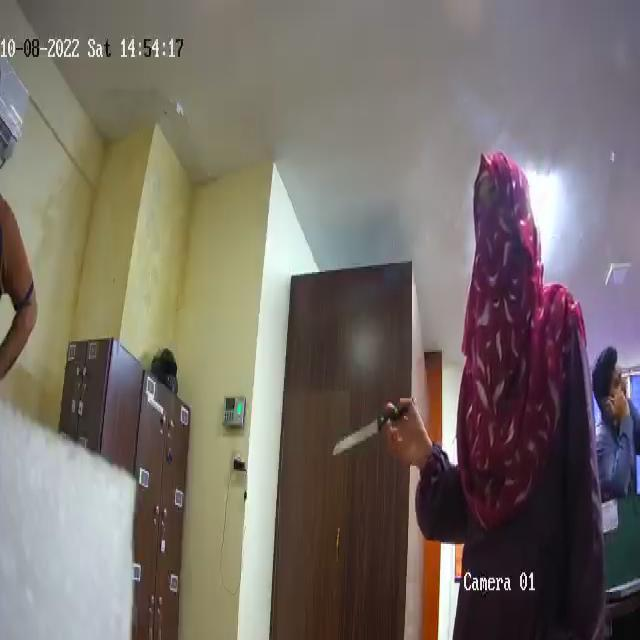Knife: (329, 403, 410, 469)
